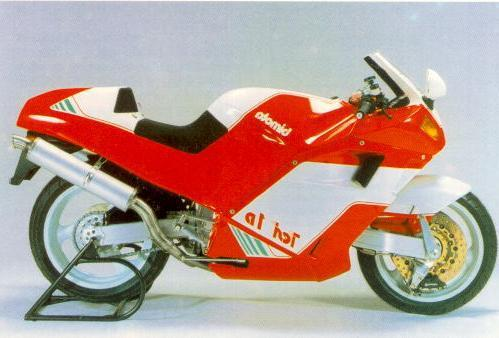motorcycle: (2, 51, 499, 322)
